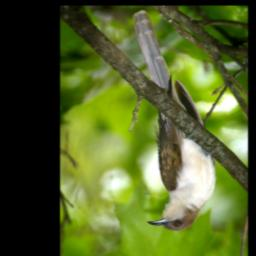Cuckoo: (133, 11, 218, 232)
